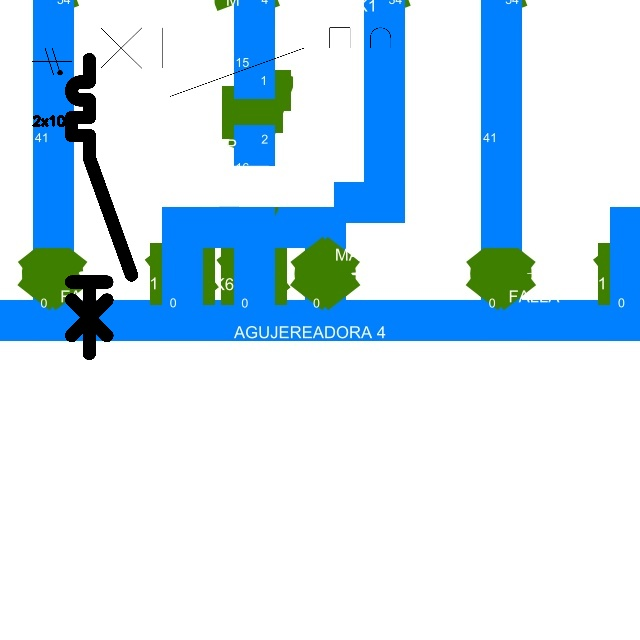interruptor_termomagnetico: (71, 19, 424, 105), (64, 52, 139, 361)
